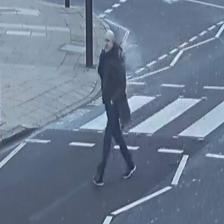person: (93, 30, 136, 184)
